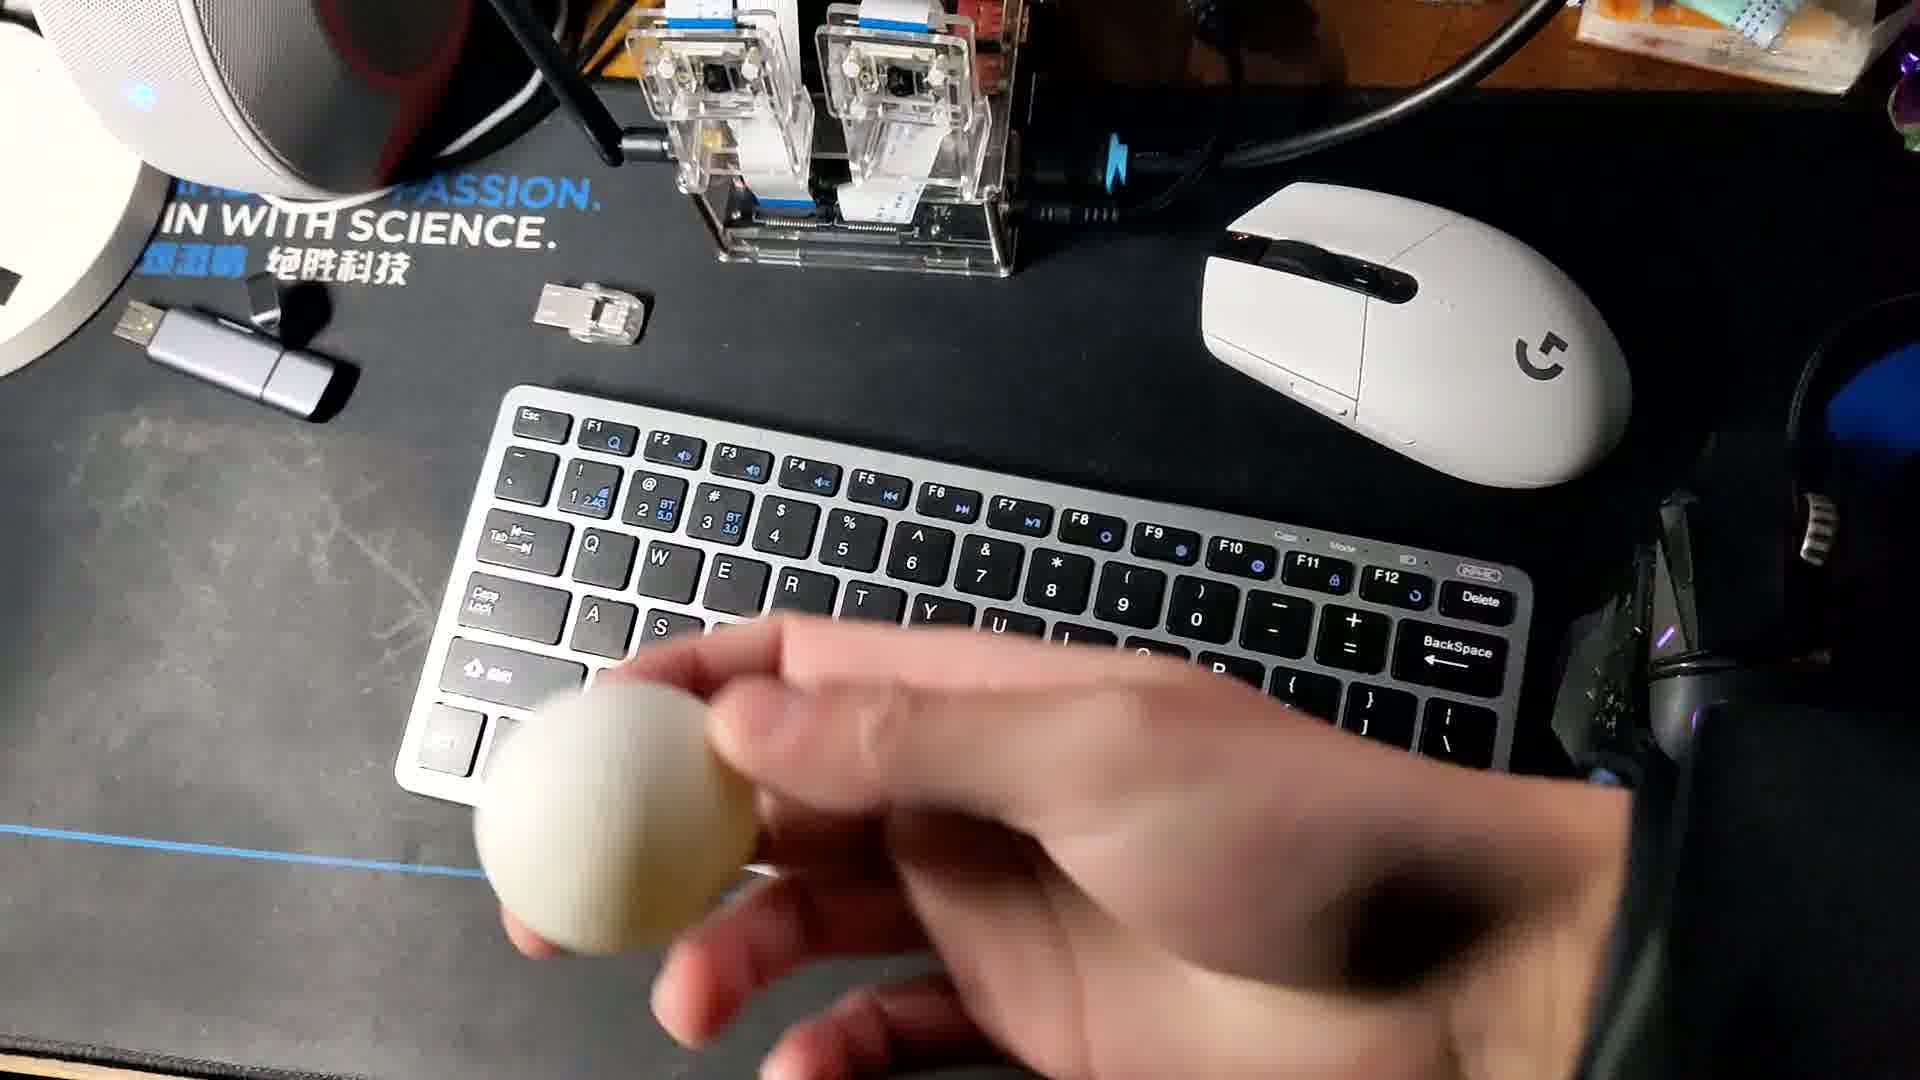Ball: (473, 683, 752, 965)
